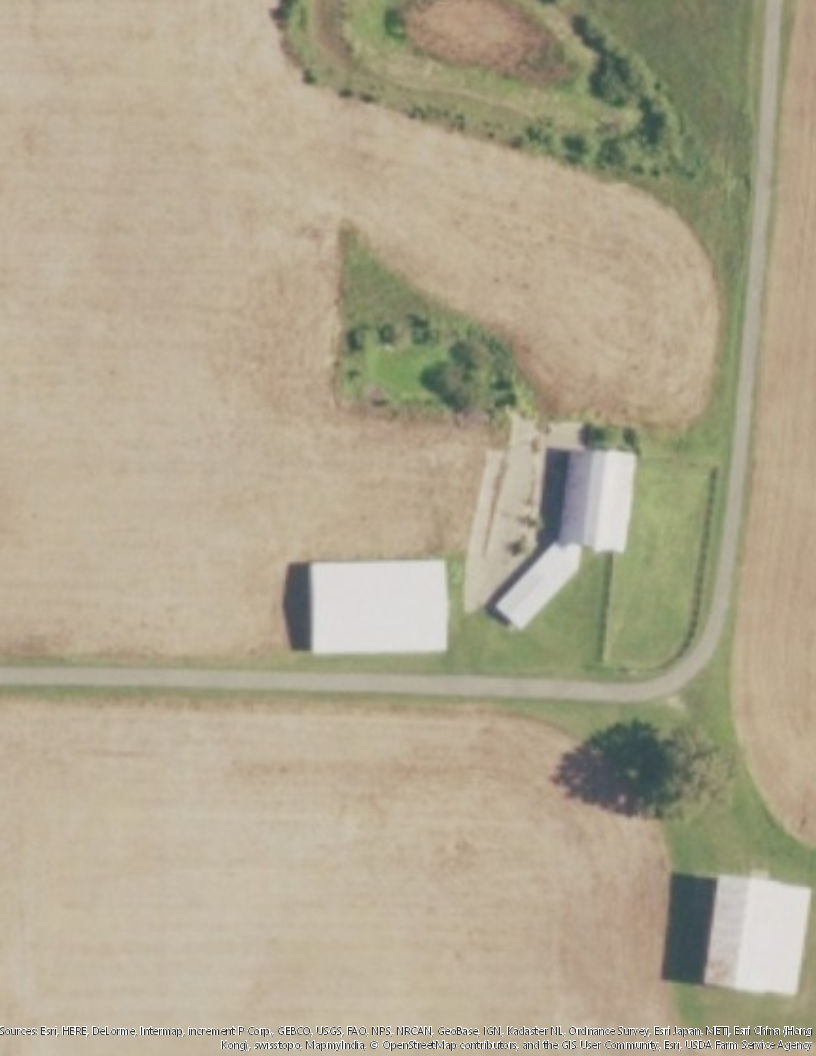cafo: (469, 405, 635, 633), (295, 555, 463, 669), (681, 859, 816, 999)
